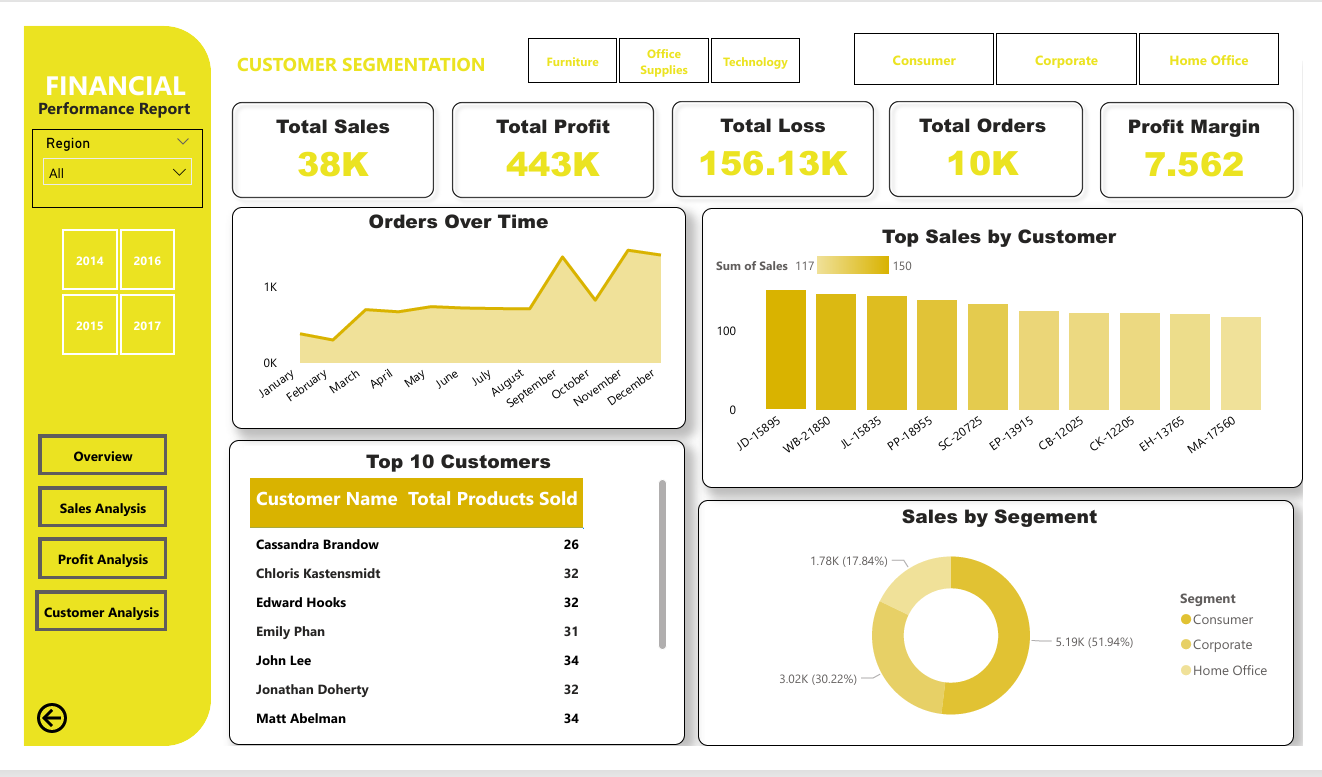

Layout of this report page (visuals, bound fields, positions):
{"tool":"powerbi","page":{"name":"Customer Segmentation","canvas":[1280,720],"ordinal":3},"visuals":[{"type":"shape","box":[678.9,181.9,601.1,280.1],"z":0},{"type":"shape","box":[1,0,186.7,719.8],"z":1000},{"type":"textbox","box":[16.5,35,154.7,49.6],"z":2000},{"type":"shape","box":[640,66.1,219.9,113.8],"z":2500,"group":"g3"},{"type":"shape","box":[856.9,66.1,212,113.8],"z":2500,"group":"g4"},{"type":"shape","box":[200.4,67.1,220,113.8],"z":2500,"group":"g1"},{"type":"shape","box":[420.2,67.1,219.9,113.8],"z":2500,"group":"g2"},{"type":"shape","box":[1068,67.1,212,113.8],"z":2500,"group":"g5"},{"type":"textbox","box":[9.7,66.1,173.1,37],"z":3000},{"type":"card","title":"Total Orders","fields":{"Values":["CountNonNull(Sample - Superstore.Order ID)"]},"box":[857.9,85.4,203.4,75.9],"z":3000,"group":"g4"},{"type":"card","title":"Total Loss","fields":{"Values":["Sample - Superstore.Total Loss"]},"box":[640,85.6,219.9,75.9],"z":3000,"group":"g3"},{"type":"card","title":"Profit Margin","fields":{"Values":["Sample - Superstore.Profit Margin %"]},"box":[1068.7,86.4,204.3,75.9],"z":3000,"group":"g5"},{"type":"card","title":"Total Sales","fields":{"Values":["Sum(Sample - Superstore.Sales)"]},"box":[200.4,86.6,220,75.9],"z":3000,"group":"g1"},{"type":"card","title":"Total Profit","fields":{"Values":["Sample - Superstore.Total Profit"]},"box":[420.2,86.6,219.9,75.9],"z":3000,"group":"g2"},{"type":"group","id":"g1","title":"Group 1","box":[200.4,67.1,219.8,113.8],"z":4000},{"type":"group","id":"g2","title":"Group 1","box":[420.2,67.1,219.8,113.8],"z":5000},{"type":"shape","box":[206,414,456.2,305.4],"z":5000,"group":"g8"},{"type":"group","id":"g3","title":"Group 1","box":[640,66.1,219.8,113.8],"z":6000},{"type":"group","id":"g4","title":"Group 1","box":[856.9,66.1,219.8,113.8],"z":7000},{"type":"group","id":"g5","title":"Group 1","box":[1068,67.1,212,113.8],"z":8000},{"type":"textbox","box":[209.1,20.2,269.7,46.5],"z":9000},{"type":"shape","box":[209.1,180.9,454.2,221.8],"z":9000,"group":"g6"},{"type":"lineChart","title":"Orders Over Time","fields":{"Category":["Sample - Superstore.Order Date.Variation.Date Hierarchy.Month"],"Y":["CountNonNull(Sample - Superstore.Order ID)"]},"box":[215.5,180.9,440.6,221.8],"z":10000,"group":"g6"},{"type":"group","id":"g6","title":"Group 2","box":[209.1,180.9,454.2,221.8],"z":11000},{"type":"shape","box":[674.9,473.9,596.2,246.1],"z":11000,"group":"g7"},{"type":"slicer","fields":{"Values":["Sample - Superstore.Region"]},"box":[8.8,103.1,171.2,78.8],"z":12000},{"type":"donutChart","title":"Sales  by Segement","fields":{"Y":["CountNonNull(Sample - Superstore.Sales)"],"Category":["Sample - Superstore.Segment"]},"box":[694.4,475.9,564.1,239.8],"z":12000,"group":"g7"},{"type":"slicer","fields":{"Values":["Sample - Superstore.Category"]},"box":[478.5,4.9,322.9,59.3],"z":13000},{"type":"slicer","fields":{"Values":["Sample - Superstore.Segment"]},"box":[805.3,0,474.7,66.1],"z":14000},{"type":"slicer","fields":{"Values":["Sample - Superstore.Order Date.Variation.Date Hierarchy.Year"]},"box":[12.6,195.5,163.4,140.1],"z":15000},{"type":"actionButton","box":[16.2,460.6,128.3,40.4],"z":16000},{"type":"actionButton","box":[16.2,409.1,128.3,40.4],"z":17000},{"type":"actionButton","box":[16.2,512.1,128.3,40.4],"z":18000},{"type":"actionButton","box":[13.1,564.6,131.3,40.4],"z":19000},{"type":"actionButton","box":[8.8,672.1,100.2,39.9],"z":20000},{"type":"group","id":"g7","title":"Group 3","box":[674.9,473.9,596.2,246.1],"z":21000},{"type":"group","id":"g8","title":"Group 4","box":[206,414,456.2,305.4],"z":22000},{"type":"columnChart","title":"Top Sales by Customer","fields":{"Y":["Sample - Superstore.Total Sales"],"Category":["Sample - Superstore.Customer ID"]},"box":[687.7,195.5,576.8,255.8],"z":22500},{"type":"tableEx","title":"Top 10 Customers","fields":{"Values":["Sample - Superstore.Customer Name","Sample - Superstore.Product Name"]},"box":[221.6,420.8,427,286],"z":24000,"group":"g8"}]}

Visuals, with their boxes on the page's 1280x720 design canvas (x1, y1, x2, y2). These are canvas units, not pixel positions in the 1322x777 screenshot, which may show the page scaled, cropped or inside an application window:
shape: box(679, 182, 1280, 462)
shape: box(1, 0, 188, 720)
textbox: box(16, 35, 171, 85)
shape: box(640, 66, 860, 180)
shape: box(857, 66, 1069, 180)
shape: box(200, 67, 420, 181)
shape: box(420, 67, 640, 181)
shape: box(1068, 67, 1280, 181)
textbox: box(10, 66, 183, 103)
"Total Orders" card: box(858, 85, 1061, 161)
"Total Loss" card: box(640, 86, 860, 162)
"Profit Margin" card: box(1069, 86, 1273, 162)
"Total Sales" card: box(200, 87, 420, 162)
"Total Profit" card: box(420, 87, 640, 162)
"Group 1" group: box(200, 67, 420, 181)
"Group 1" group: box(420, 67, 640, 181)
shape: box(206, 414, 662, 719)
"Group 1" group: box(640, 66, 860, 180)
"Group 1" group: box(857, 66, 1077, 180)
"Group 1" group: box(1068, 67, 1280, 181)
textbox: box(209, 20, 479, 67)
shape: box(209, 181, 663, 403)
"Orders Over Time" lineChart: box(216, 181, 656, 403)
"Group 2" group: box(209, 181, 663, 403)
shape: box(675, 474, 1271, 720)
slicer - Sample - Superstore.Region: box(9, 103, 180, 182)
"Sales  by Segement" donutChart: box(694, 476, 1258, 716)
slicer - Sample - Superstore.Category: box(478, 5, 801, 64)
slicer - Sample - Superstore.Segment: box(805, 0, 1280, 66)
slicer - Sample - Superstore.Order Date.Variation.Date Hierarchy.Year: box(13, 196, 176, 336)
actionButton: box(16, 461, 144, 501)
actionButton: box(16, 409, 144, 450)
actionButton: box(16, 512, 144, 552)
actionButton: box(13, 565, 144, 605)
actionButton: box(9, 672, 109, 712)
"Group 3" group: box(675, 474, 1271, 720)
"Group 4" group: box(206, 414, 662, 719)
"Top Sales by Customer" columnChart: box(688, 196, 1264, 451)
"Top 10 Customers" tableEx: box(222, 421, 649, 707)
